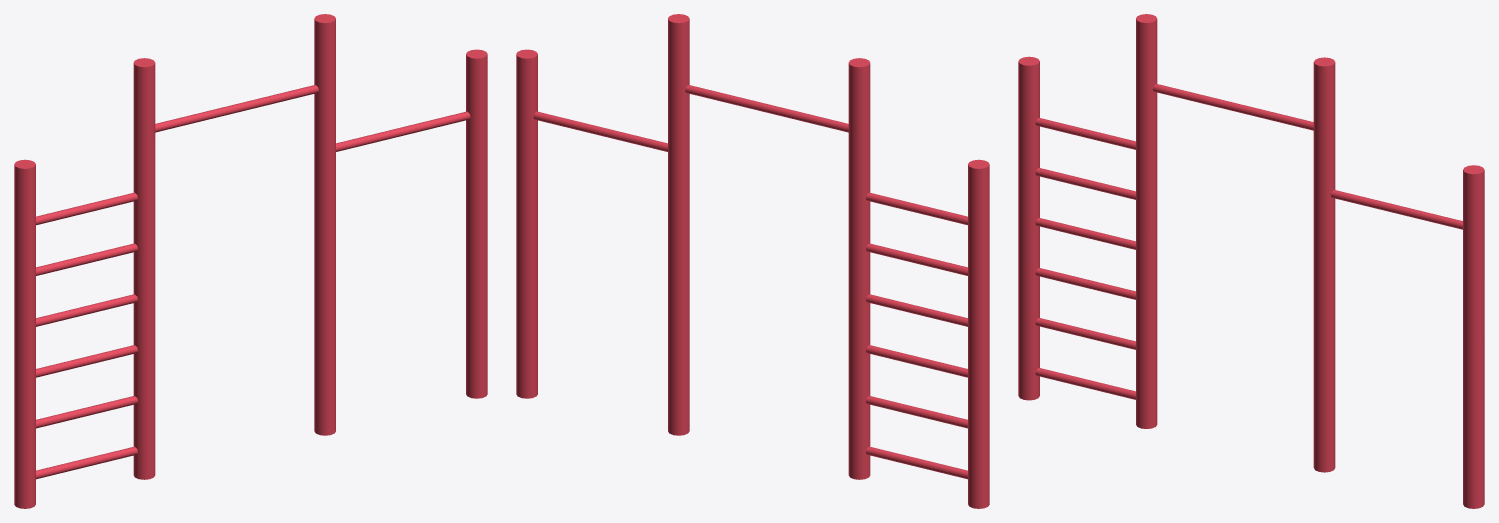
The model's file is Crossbar.fbx.
The picture shows the model from 3 angles, left to right: view 1: azimuth 30°, elevation 25°; view 2: azimuth 150°, elevation 25°; view 3: azimuth 330°, elevation 25°; orthographic projection.
Visible parts, largest first — view 1: crossbar; view 2: crossbar; view 3: crossbar.
Boxes of the visible parts, left/top/right/bottom form: crossbar: left=14, top=14, right=487, bottom=508; crossbar: left=516, top=14, right=989, bottom=508; crossbar: left=1018, top=14, right=1484, bottom=508.
Size of the model in its own units: 293 by 246 by 11.8.
